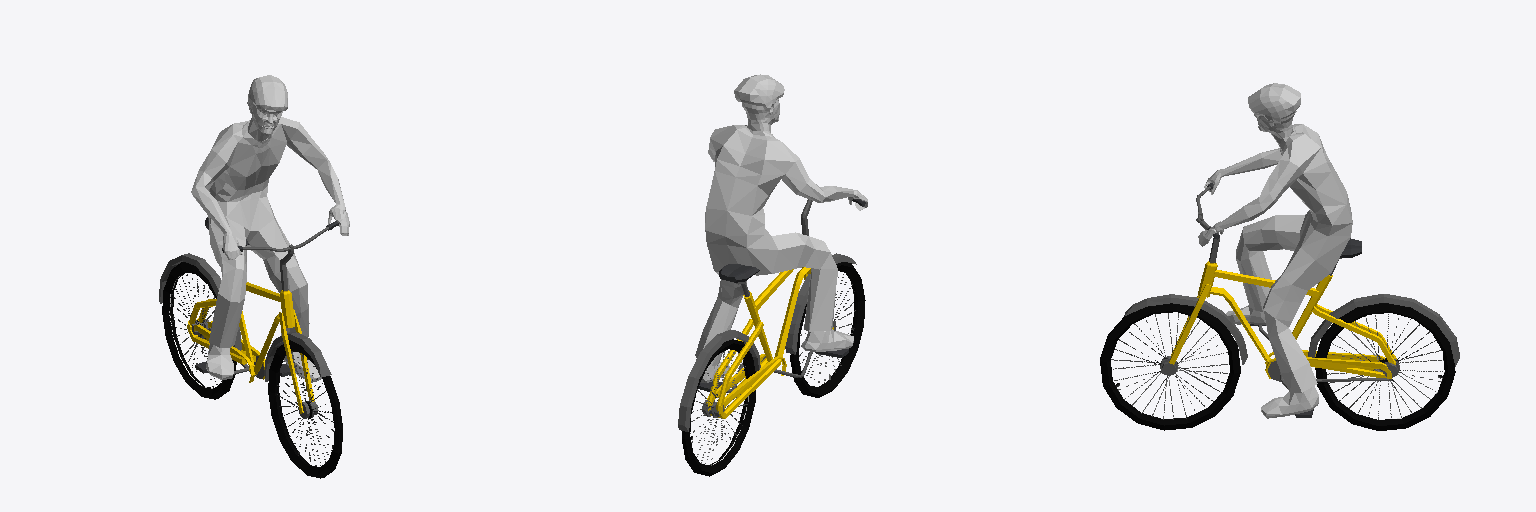
3 views of the same model, side by side, from view 1: azimuth 30°, elevation 25°; view 2: azimuth 150°, elevation 25°; view 3: azimuth 270°, elevation 25° (orthographic).
Visible parts, largest first — view 1: male1591Mesh.002_male1591.006, bike.002_Cylinder.005, Wheel_Front.002_Cylinder.003, Wheel_Back.002_Cylinder.004; view 2: male1591Mesh.002_male1591.006, bike.002_Cylinder.005, Wheel_Back.002_Cylinder.004, Wheel_Front.002_Cylinder.003; view 3: male1591Mesh.002_male1591.006, bike.002_Cylinder.005, Wheel_Front.002_Cylinder.003, Wheel_Back.002_Cylinder.004.
Part boxes in pixels (bbox=[...]): male1591Mesh.002_male1591.006: bbox=[191, 75, 349, 382]; bike.002_Cylinder.005: bbox=[159, 217, 338, 418]; Wheel_Front.002_Cylinder.003: bbox=[268, 340, 342, 478]; Wheel_Back.002_Cylinder.004: bbox=[162, 262, 236, 399]; male1591Mesh.002_male1591.006: bbox=[695, 74, 867, 382]; bike.002_Cylinder.005: bbox=[678, 199, 865, 431]; Wheel_Back.002_Cylinder.004: bbox=[682, 339, 755, 476]; Wheel_Front.002_Cylinder.003: bbox=[790, 262, 865, 397]; male1591Mesh.002_male1591.006: bbox=[1198, 83, 1352, 418]; bike.002_Cylinder.005: bbox=[1124, 183, 1459, 381]; Wheel_Front.002_Cylinder.003: bbox=[1100, 303, 1240, 430]; Wheel_Back.002_Cylinder.004: bbox=[1315, 303, 1455, 430].
Bounding box in the file's own units: 0.7282 × 1.82 × 1.69.
Materials: 4 (2 with a texture image).